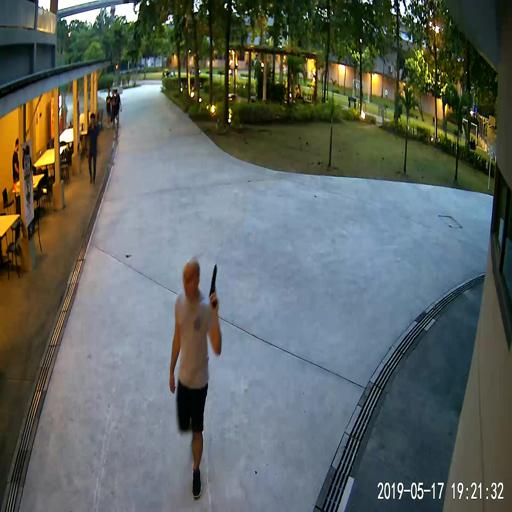pistol: (209, 263, 219, 308)
